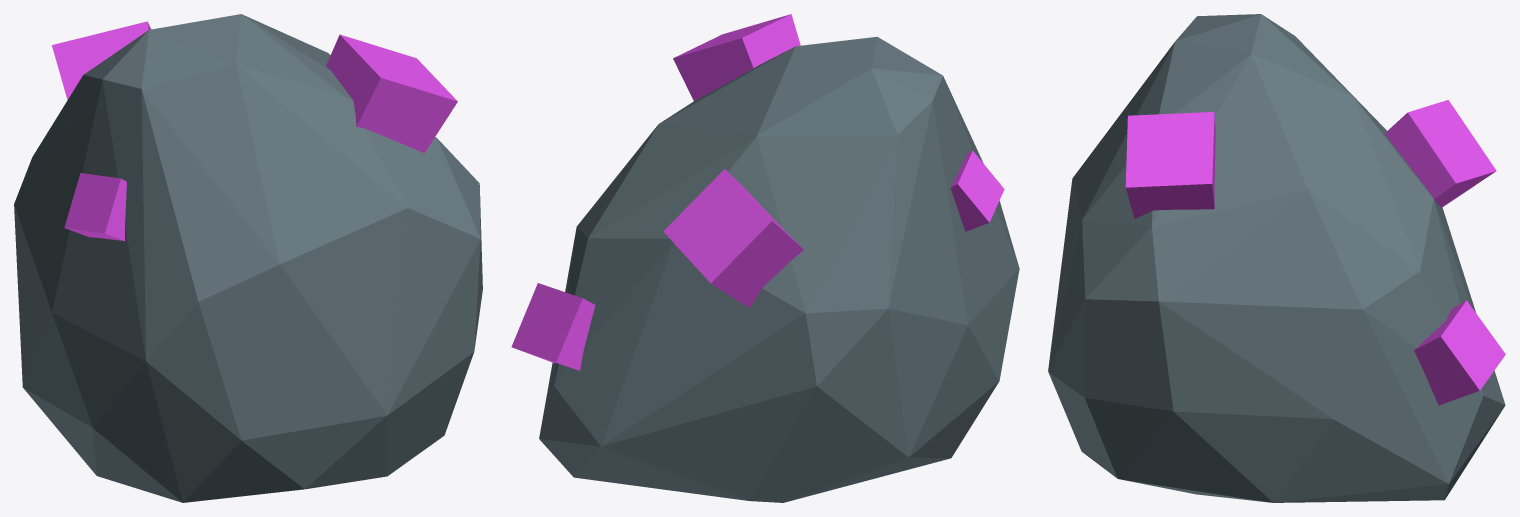
Rendered from mineral_pink_mod_01.fbx.
3 views of the same model, side by side, from view 1: azimuth 30°, elevation 25°; view 2: azimuth 150°, elevation 25°; view 3: azimuth 270°, elevation 25° (orthographic). The views are drawn at different scales.
Visible parts, largest first — view 1: Cube, Cube.001; view 2: Cube, Cube.001; view 3: Cube, Cube.001.
Part boxes in pixels (box(x1,y1,x2,y2)): Cube: box(14, 14, 482, 502); Cube.001: box(52, 21, 457, 240); Cube: box(539, 36, 1019, 502); Cube.001: box(511, 14, 1004, 370); Cube: box(1048, 14, 1505, 502); Cube.001: box(1125, 100, 1505, 405).
Bounding box in the file's own units: 2 × 2.19 × 2.05.
